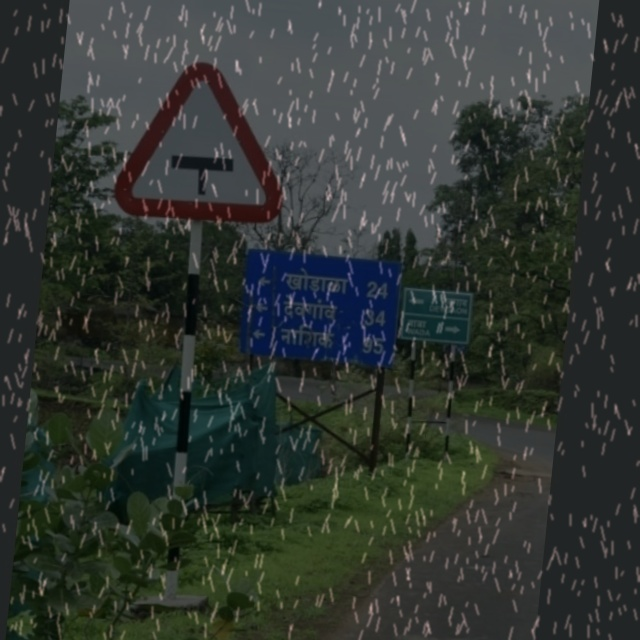T_Intersection: (111, 60, 300, 226)
